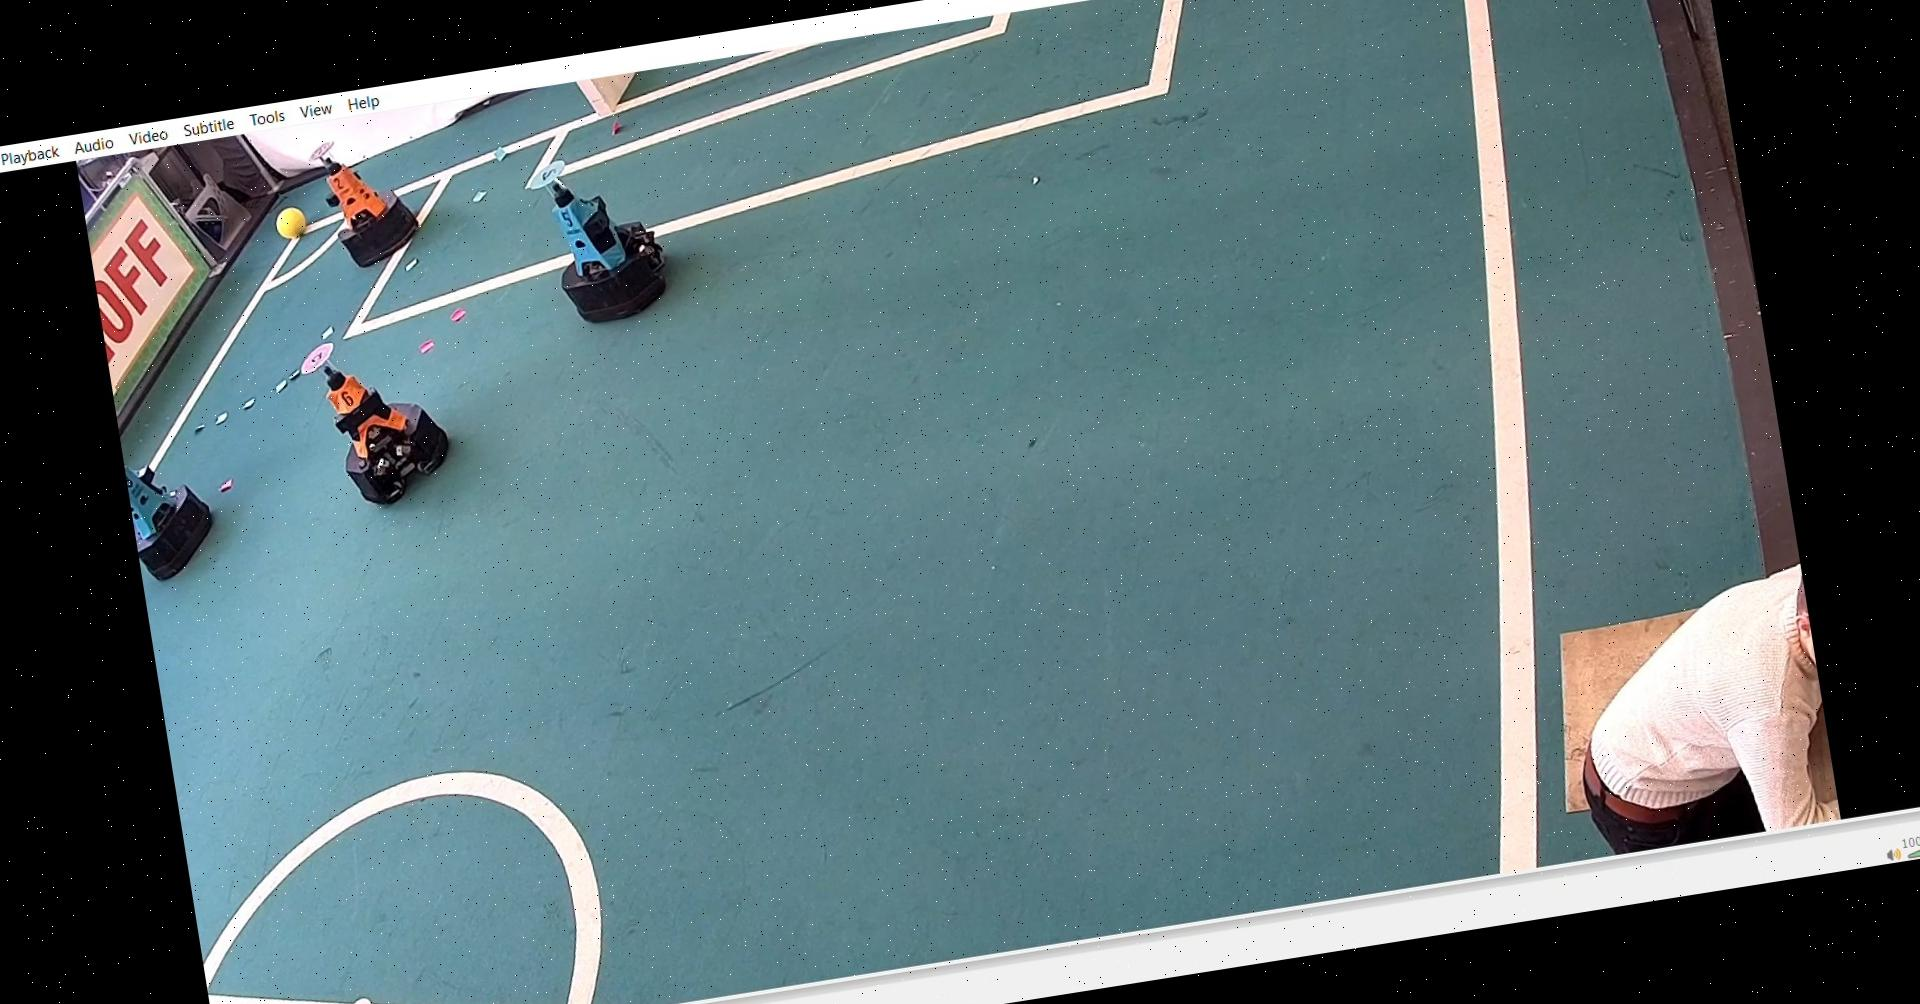Ball: (279, 201, 317, 237)
Team_Blue: (522, 133, 687, 334), (121, 430, 236, 580)
Team_Red: (292, 315, 461, 513), (311, 126, 438, 277)
